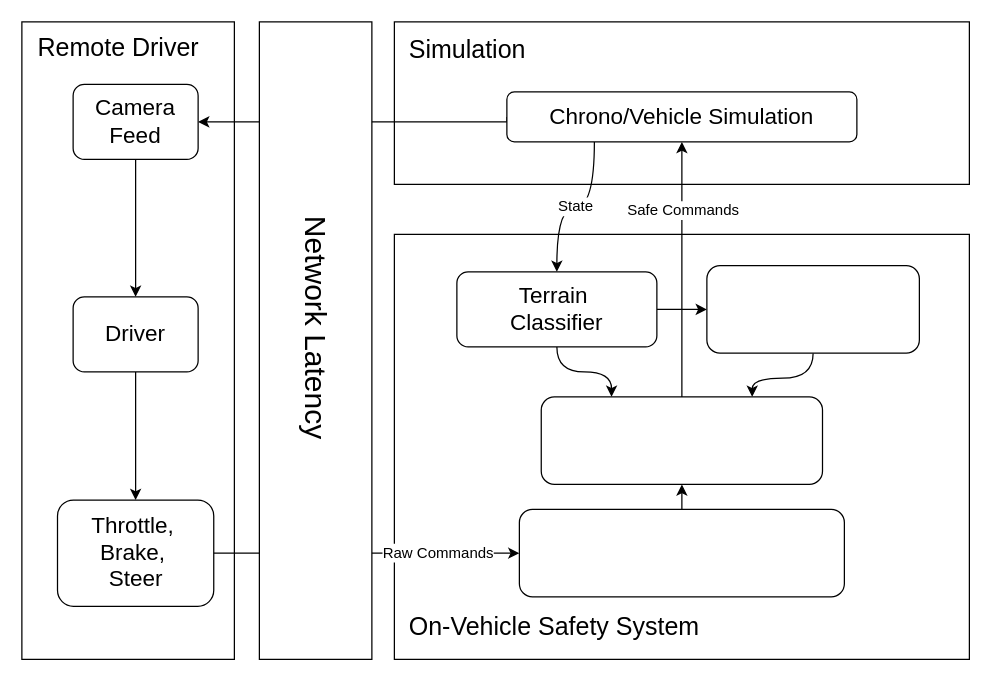
This 991x681 diagram has some shape labels left out. Each missing label, with the box of its shape:
CBF-DOB Safety Filter (Shared Control): (540, 396, 822, 484)
Delay Compensation (State Propagation): (518, 508, 844, 597)
Neural Dynamics Surrogate: (706, 264, 919, 353)
